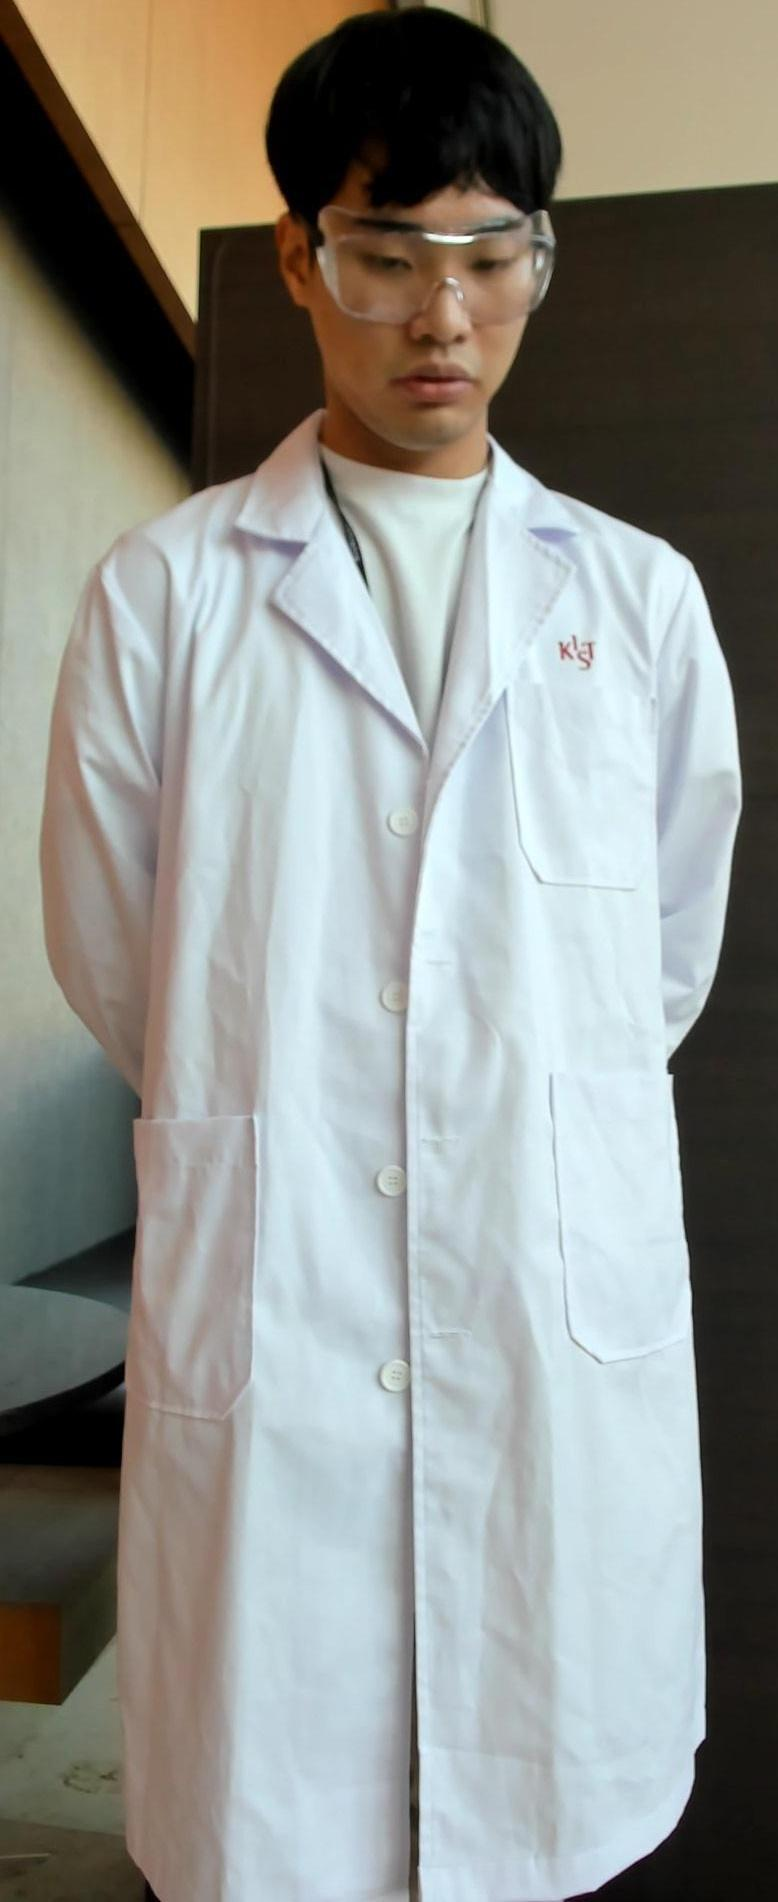lab_coat: (45, 497, 738, 1902)
